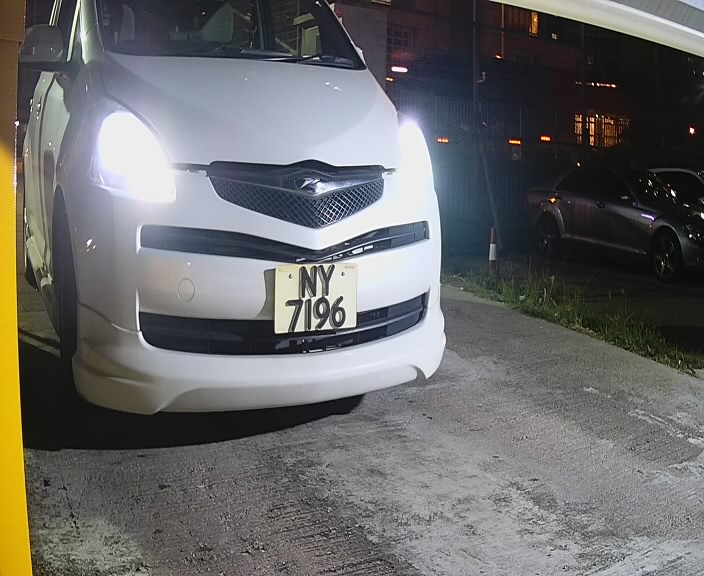Car: (31, 2, 454, 441)
License Plate: (268, 255, 366, 346)
